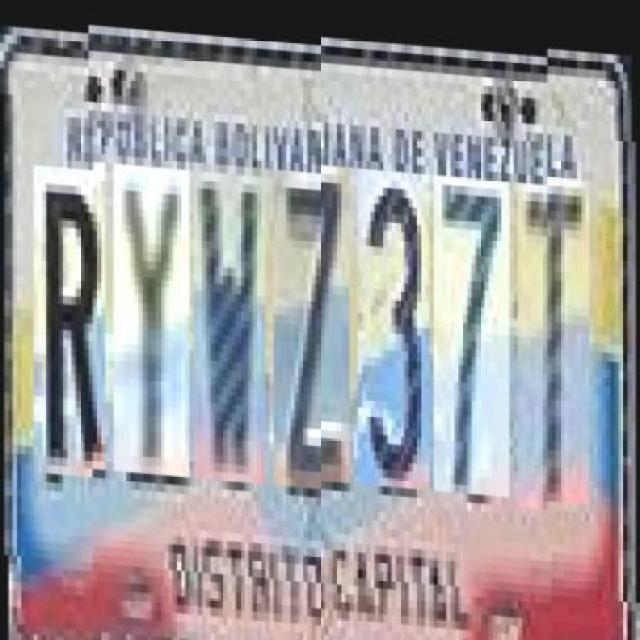3: (358, 162, 430, 482)
7: (433, 167, 510, 488)
r: (33, 148, 105, 460)
t: (518, 173, 590, 502)
w: (193, 158, 265, 471)
y: (114, 153, 189, 465)
z: (273, 155, 350, 477)
